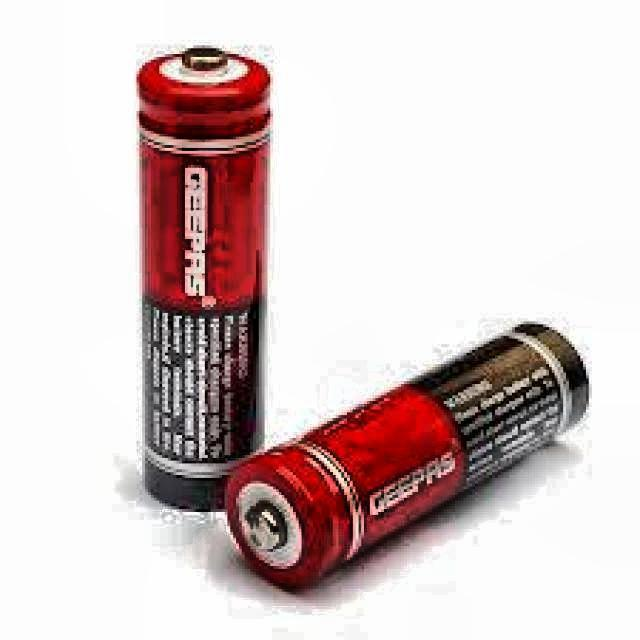battery: (223, 321, 590, 594), (137, 46, 270, 512)
